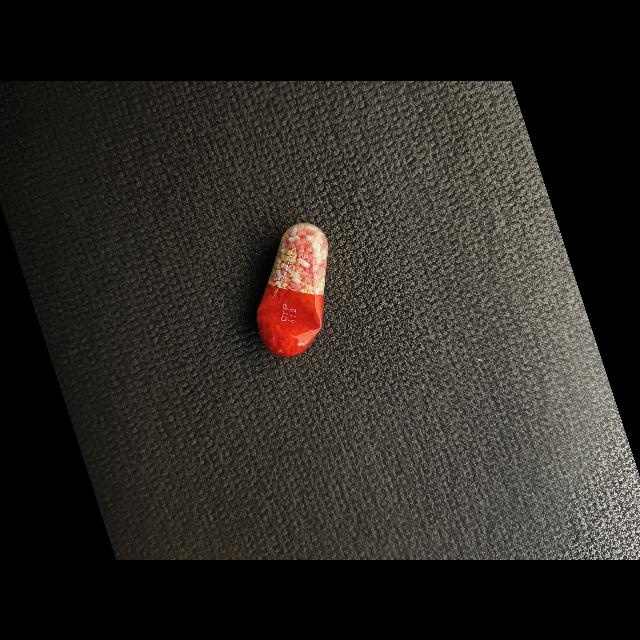Defective Capsule: (257, 222, 328, 356)
